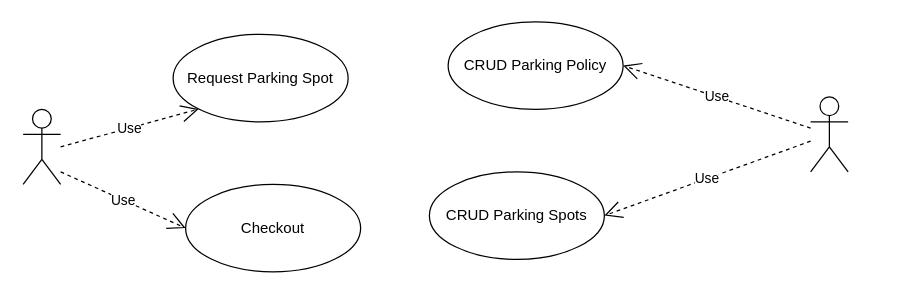
The diagram is 899 pixels wide and 294 high, and some of its shapes have lost their labels. Each missing label, with the centre of its shape:
"Driver" goes at point 41,146.
"Parking Admin" goes at point 828,134.
